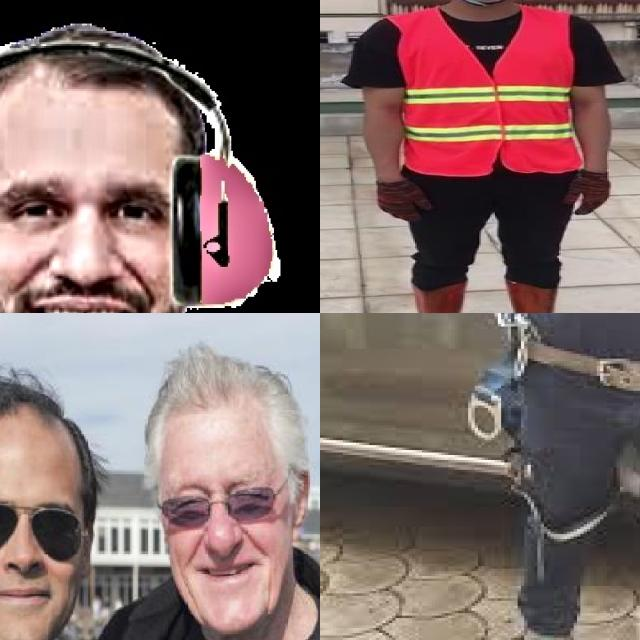Ear-protection: (0, 32, 320, 313)
Harness: (496, 313, 640, 534)
boots: (505, 281, 578, 313), (408, 286, 465, 313)
face_nomask: (162, 489, 284, 591), (0, 504, 89, 615)
glasses: (0, 490, 86, 575), (159, 480, 280, 529)
head_nohelmet: (138, 358, 294, 446), (0, 381, 87, 466)
person: (334, 0, 640, 313), (78, 351, 320, 640), (0, 359, 113, 640)
vest: (394, 9, 578, 173)
